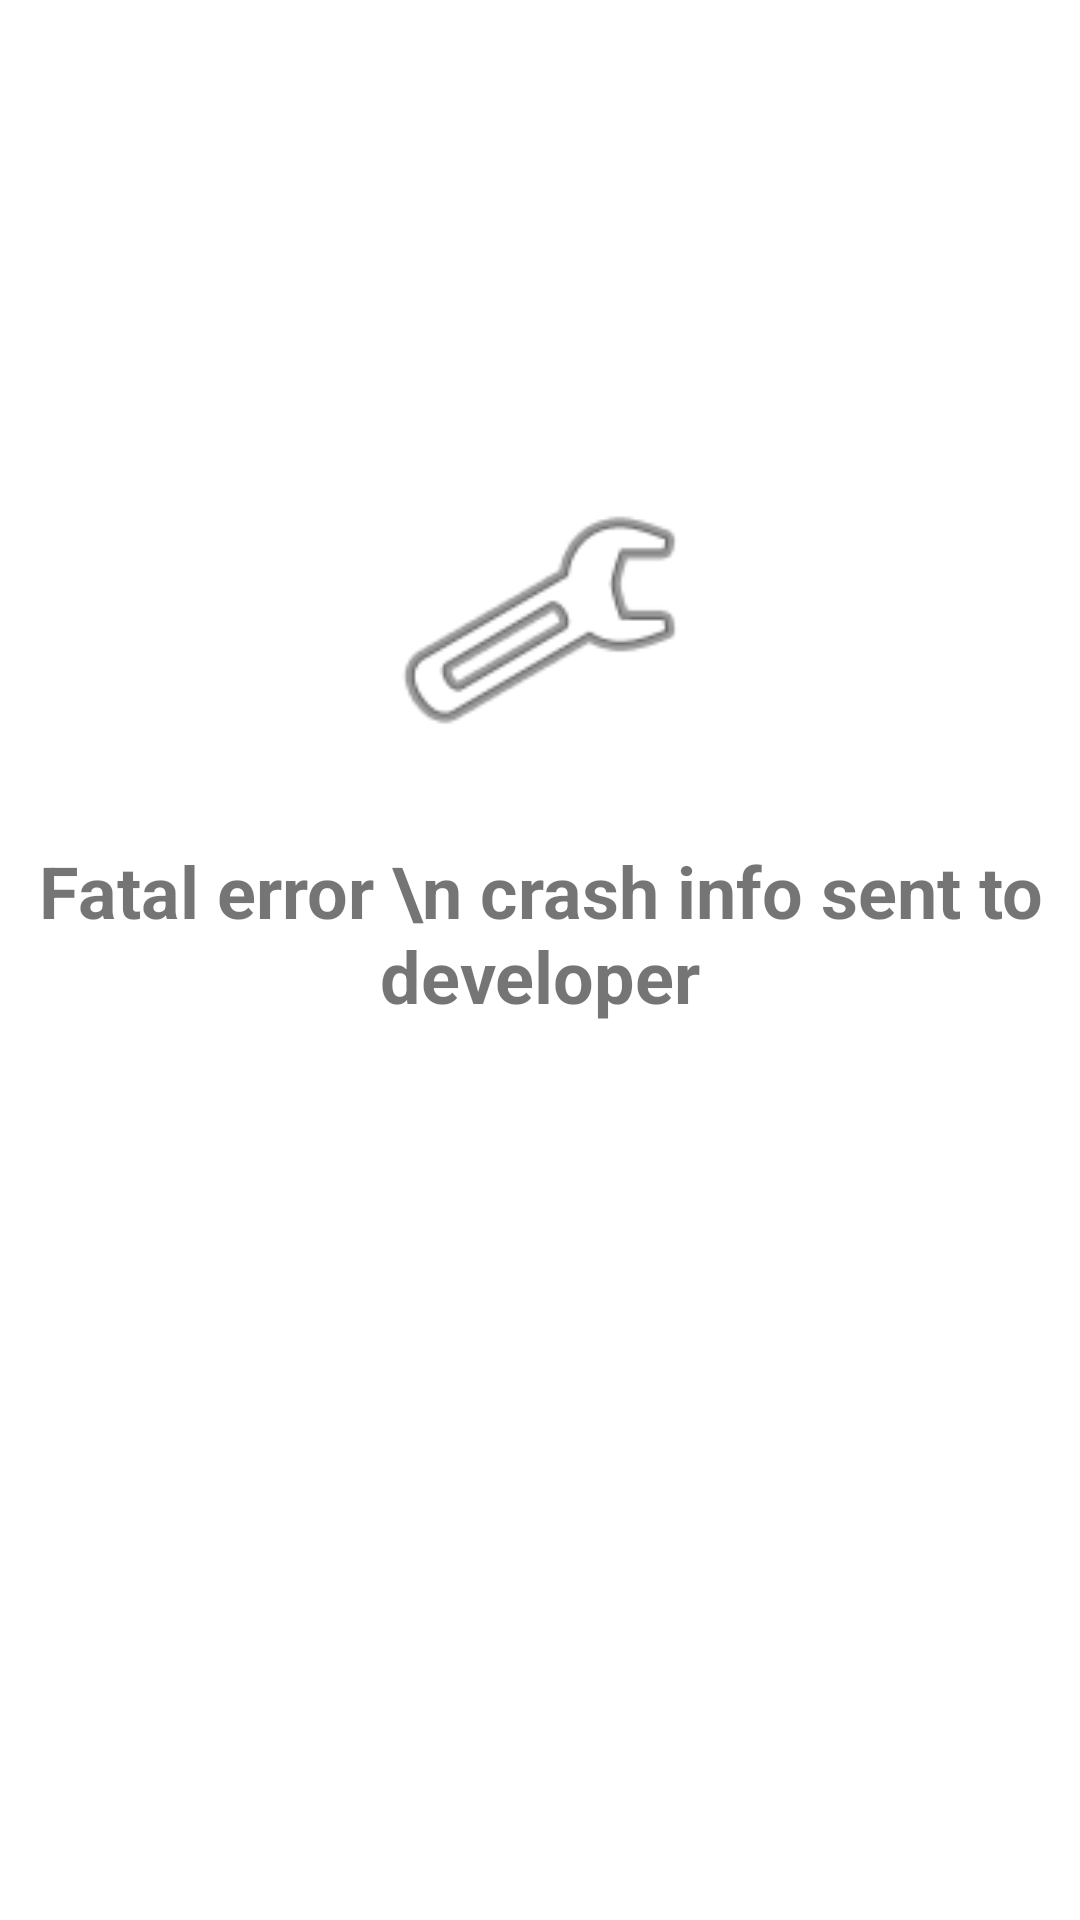

Point at icon controls on the screen. Image size 1080×1920, points as (x=x, y=y).
preferences: (x=539, y=620)
